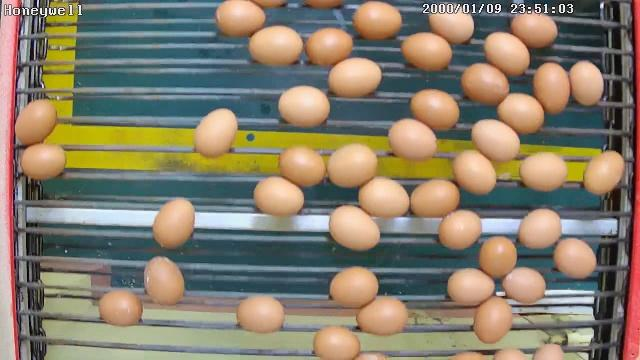egg: (328, 204, 382, 252), (325, 142, 378, 190), (250, 173, 306, 218), (246, 24, 303, 68), (191, 108, 239, 160), (356, 175, 410, 221), (327, 56, 383, 100), (386, 117, 438, 164), (151, 197, 196, 251), (276, 84, 331, 128), (482, 30, 530, 80), (460, 60, 510, 107), (470, 118, 521, 164), (408, 88, 459, 133), (142, 256, 186, 308), (399, 30, 453, 72), (356, 295, 410, 337), (580, 149, 626, 198), (328, 265, 379, 309), (12, 98, 58, 146), (452, 148, 498, 196), (496, 92, 546, 136), (276, 144, 326, 188), (303, 25, 354, 68), (236, 292, 286, 335), (445, 266, 496, 308), (352, 0, 403, 42), (552, 236, 598, 282), (213, 0, 267, 39), (410, 178, 460, 220), (473, 294, 513, 346), (508, 10, 560, 50), (520, 151, 568, 193), (532, 62, 570, 115), (437, 209, 483, 252), (98, 288, 144, 330), (477, 235, 518, 282), (18, 142, 66, 182), (428, 5, 476, 45), (517, 208, 562, 250), (501, 265, 548, 305), (568, 59, 605, 108), (313, 324, 362, 360)
